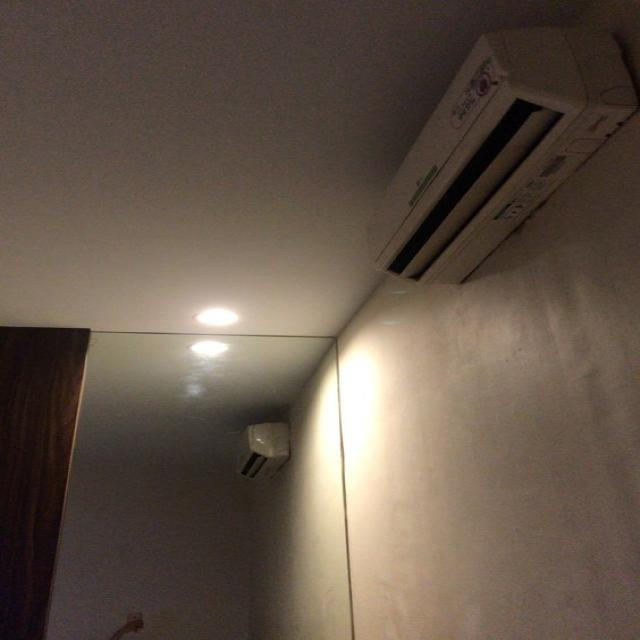AC: (365, 24, 637, 284), (233, 420, 290, 482)
